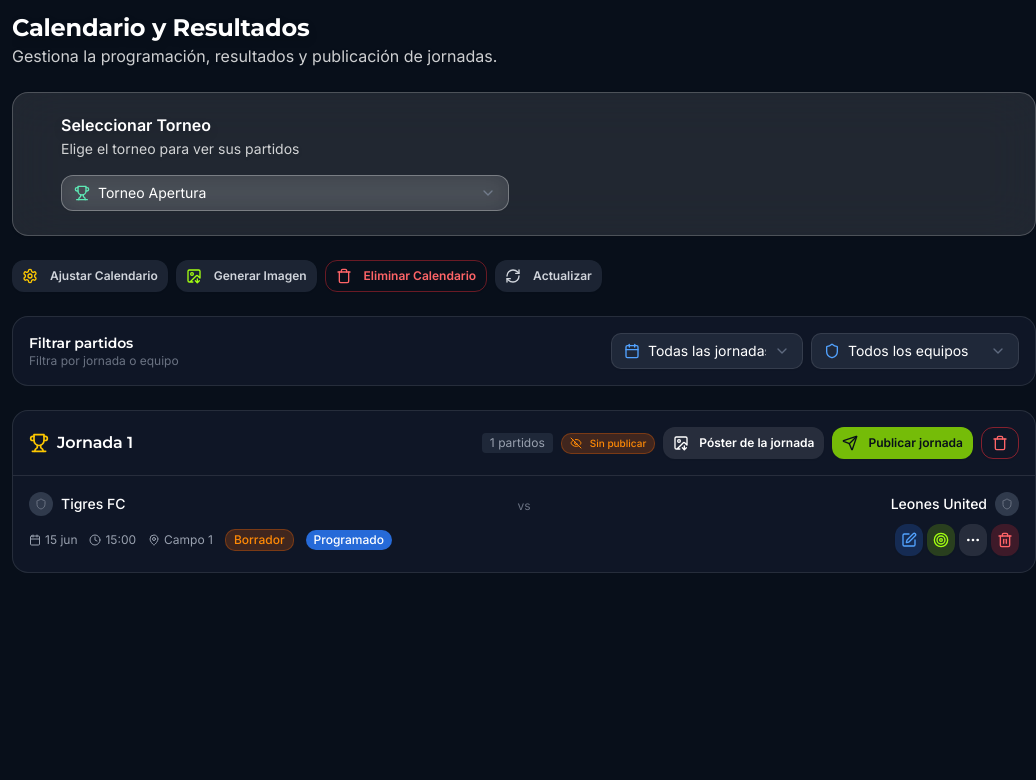
Test case: round publishing › warns, without undoing the publish, when a follow-up fails
Click the button "Publicar jornada". click: {"x": 903, "y": 443}
box: x1=832 y1=427 x2=973 y2=459
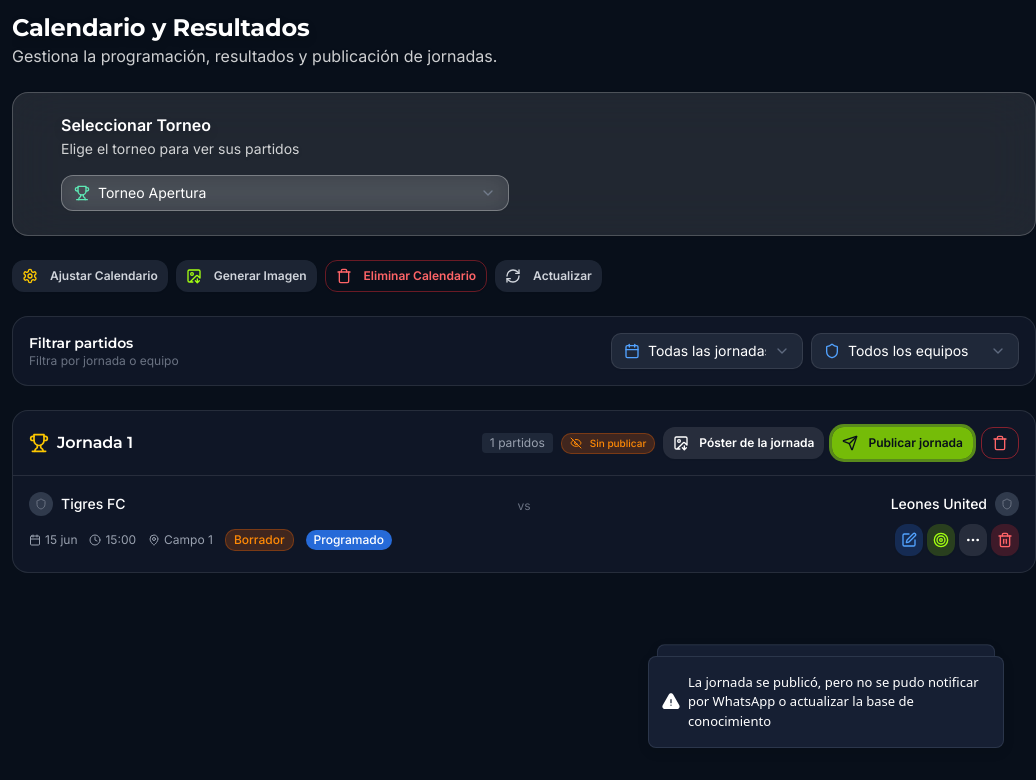
Expected: the text "se publicó, pero no se pudo notificar" is shown, x1=688 y1=672 x2=979 y2=730
